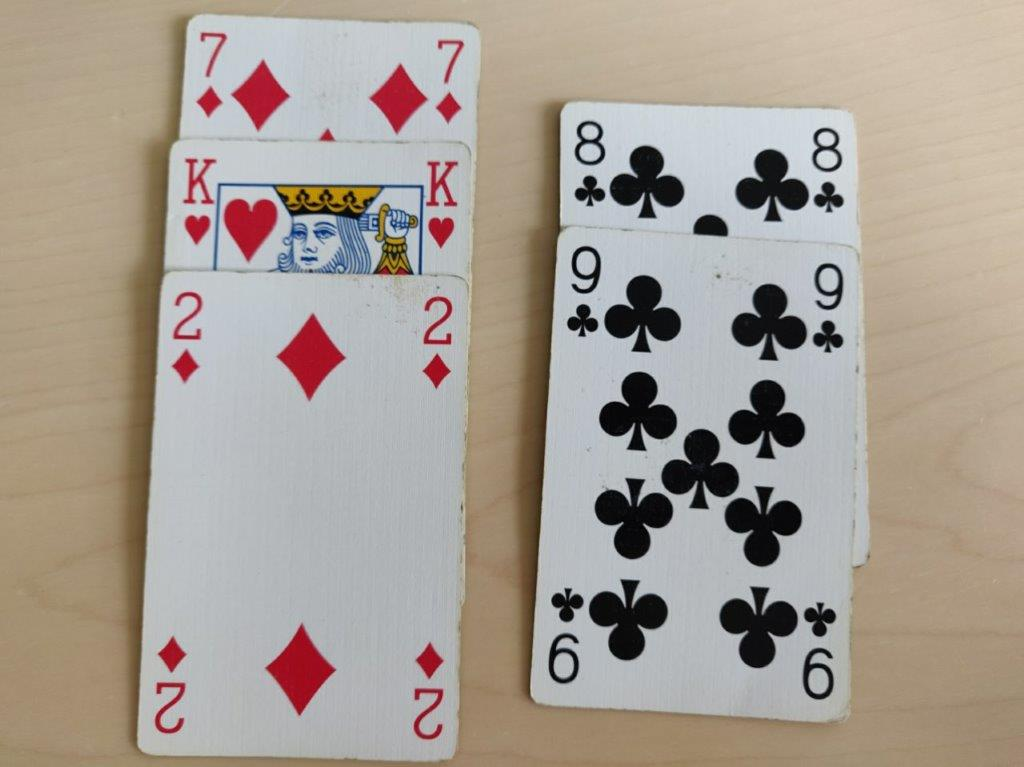2D: (165, 286, 208, 385), (418, 293, 460, 393)
7D: (192, 24, 231, 121), (430, 34, 469, 125)
8C: (566, 113, 612, 209), (804, 121, 848, 221)
9C: (564, 240, 604, 338), (807, 259, 847, 356)
KH: (175, 149, 222, 248), (421, 153, 463, 252)
